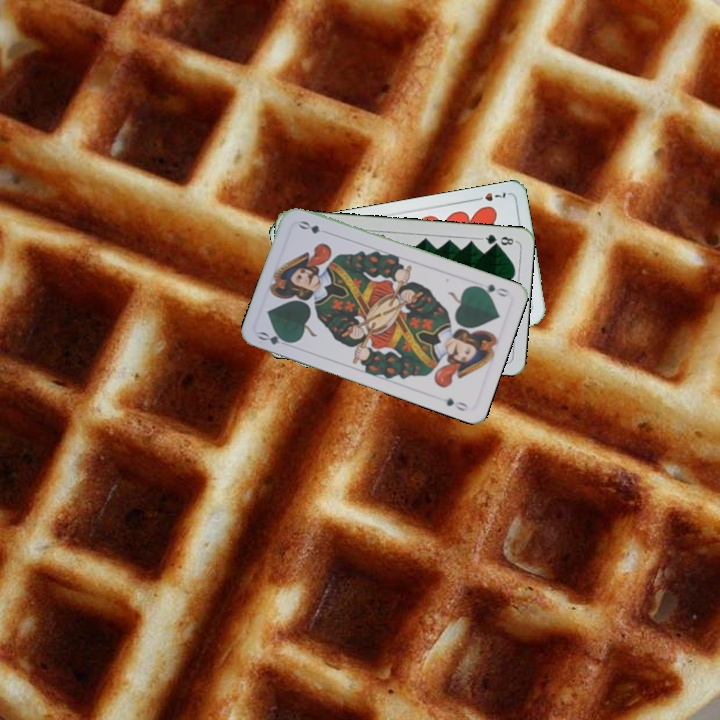G8: (478, 230, 518, 248)
GO: (254, 327, 295, 349), (472, 280, 511, 300)
H7: (470, 188, 508, 204)
